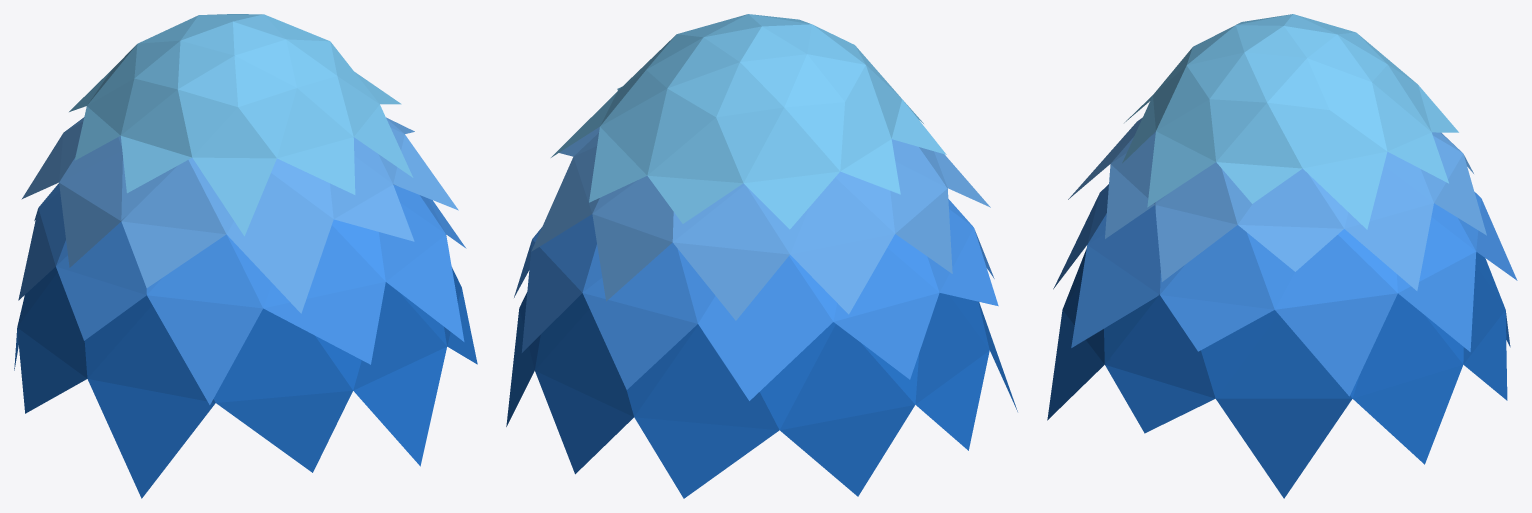
The model's file is Bush.fbx.
The picture shows the model from 3 angles, left to right: view 1: azimuth 30°, elevation 25°; view 2: azimuth 150°, elevation 25°; view 3: azimuth 270°, elevation 25°; orthographic projection. The views are drawn at different scales.
Parts seen in each view (by area): view 1: Bush.001; view 2: Bush.001; view 3: Bush.001.
Boxes of the visible parts, box(x1,y1,x2,y2) form: Bush.001: box(14, 14, 477, 498); Bush.001: box(506, 14, 1017, 498); Bush.001: box(1047, 14, 1517, 498).
Size of the model in its own units: 1.14 by 1.18 by 1.05.
Materials: 1 (1 with a texture image).
